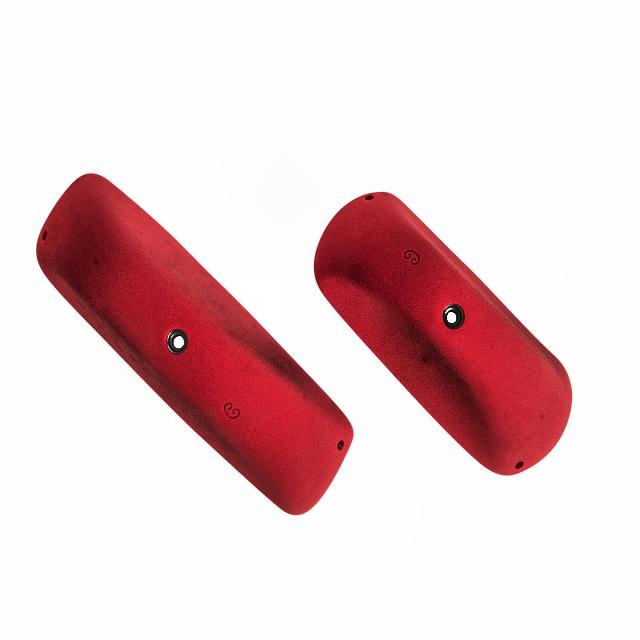Hold: (9, 151, 401, 559), (278, 166, 580, 495)
